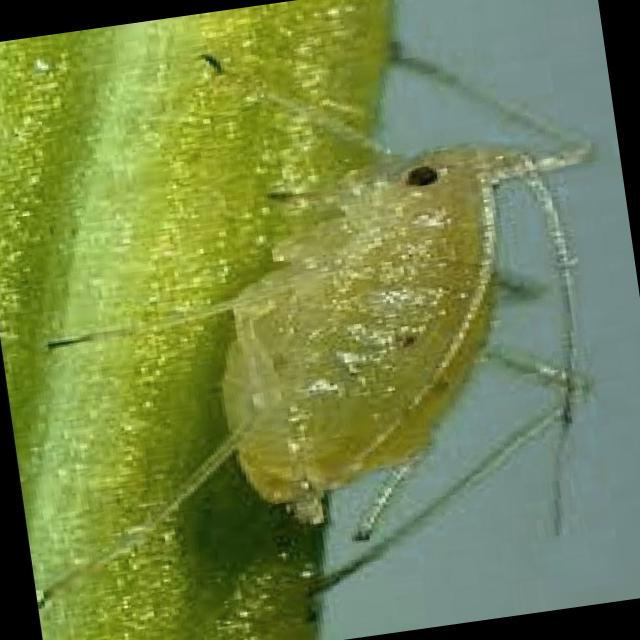aphid: (100, 30, 640, 609)
